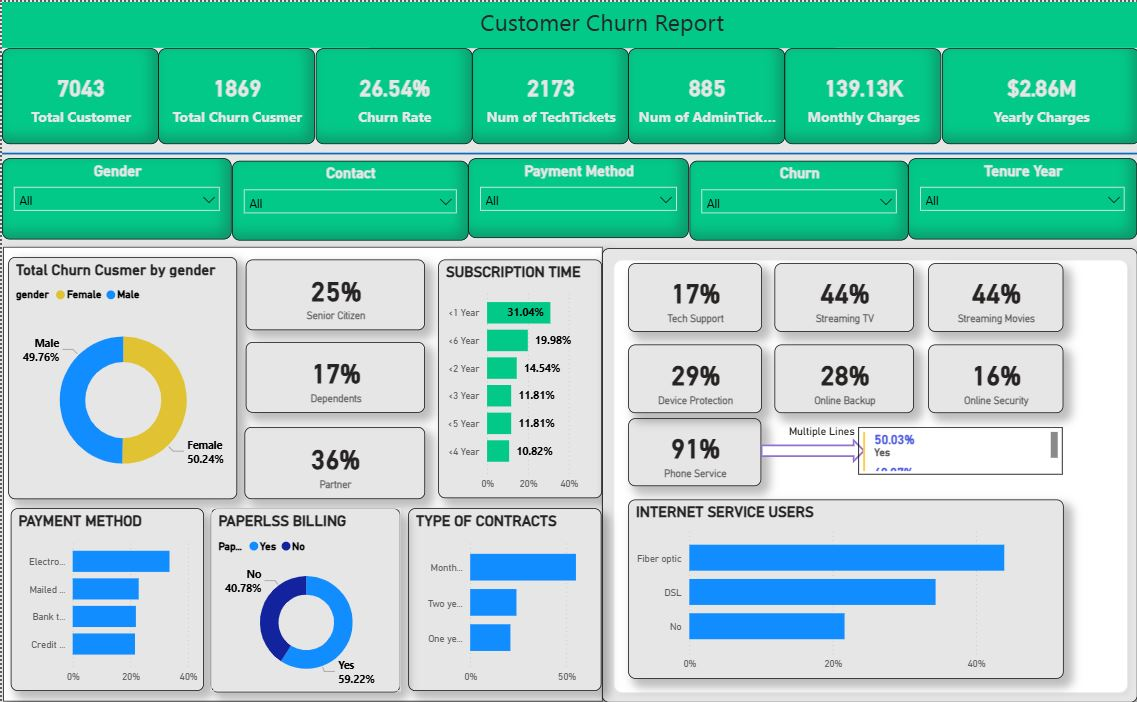

What the dashboard file says about the page in this screenshot:
{"tool":"powerbi","page":{"name":"Page 1","canvas":[1280,720],"ordinal":0},"visuals":[{"type":"card","fields":{"Values":["measure.Total Customer"]},"box":[0,36.6,178.3,106.7],"z":0},{"type":"card","fields":{"Values":["measure.Churned Customers"]},"box":[178.1,36.5,199.1,103.8],"z":1000},{"type":"card","fields":{"Values":["measure.Churn%"]},"box":[377.2,36.5,227.2,103.8],"z":2000},{"type":"textbox","title":"Customer Churn Analytics Dashboad","box":[0,0,1280.3,36.5],"z":3000},{"type":"card","fields":{"Values":["measure.Total Admin Tickets"]},"box":[639.4,36.5,220.2,103.8],"z":4000},{"type":"card","fields":{"Values":["measure.Total Charge"]},"box":[861,36.5,224.4,103.8],"z":5000},{"type":"card","fields":{"Values":["measure.Monthly Charge"]},"box":[1085.4,36.5,194.9,103.8],"z":6000},{"type":"shape","box":[614.2,39.3,18.2,99.6],"z":7000},{"type":"shape","box":[10.7,168.1,799.9,276.6],"z":8000},{"type":"shape","box":[0,154.3,1278.9,14],"z":9000},{"type":"donutChart","fields":{"Category":["01 Churn-Dataset.gender"],"Y":["measure.Churned Customers"]},"box":[23.8,176.7,290.3,256.6],"z":10000},{"type":"card","title":"Churn  Senior Citizen %","fields":{"Values":["measure.Churn Citizen%"]},"box":[313.1,177,237,76.1],"z":11000},{"type":"card","title":"Churn  Partner %","fields":{"Values":["measure.Churn patner%"]},"box":[313.1,253.1,237,86.3],"z":12000},{"type":"card","title":"Churn  Dependent %","fields":{"Values":["measure.Churn Dependent%"]},"box":[313.1,339.5,237,93.6],"z":13000},{"type":"clusteredBarChart","title":"Churn by Tenure ","fields":{"Y":["CountNonNull(Churn-Dataset.Churn)"],"Category":["Churn-Dataset.Tenure Group"]},"box":[550.7,178.8,244.4,253.9],"z":14000},{"type":"shape","box":[848.7,168.1,430.3,523.3],"z":15000},{"type":"card","title":"Phone Services","fields":{"Values":["measure.T_Phone Services"]},"box":[859.5,176.4,202.6,77.5],"z":16000},{"type":"card","title":"StreamingTV","fields":{"Values":["measure.strime tv"]},"box":[1085.4,176.7,183.7,75.7],"z":17000},{"type":"card","title":"StreamingMovies","fields":{"Values":["measure.T_StreamingMovies"]},"box":[859.5,255.1,202.6,76.3],"z":18000},{"type":"card","title":"OnlineBackup","fields":{"Values":["measure.T_OnlineBackup"]},"box":[858.3,331.4,203.8,77.5],"z":19000},{"type":"card","title":"OnlineSecurity","fields":{"Values":["measure.T_OnlineSecurity"]},"box":[1085.9,252.7,183.6,75.1],"z":20000},{"type":"card","title":"TechSupport","fields":{"Values":["measure.T_TechSupport"]},"box":[1085.9,327.8,183.6,76.3],"z":21000},{"type":"clusteredBarChart","fields":{"Category":["Churn-Dataset.InternetService"],"Y":["measure.Churned Customers"]},"box":[860.6,408.9,408.9,267],"z":22000},{"type":"shape","box":[826.1,172.8,13.1,503],"z":23000},{"type":"clusteredColumnChart","fields":{"Category":["Churn-Dataset.PaymentMethod"],"Y":["measure.Churned Customers"]},"box":[25,470.9,386.2,205],"z":24000},{"type":"clusteredBarChart","fields":{"Category":["Churn-Dataset.Contract"],"Y":["measure.Churned Customers"]},"box":[436.3,470.9,358.8,205],"z":25000},{"type":"shape","box":[23.8,444.6,771.2,26.2],"z":26000}]}

Visuals, with their boxes on the page's 1280x720 design canvas (x1, y1, x2, y2). These are canvas units, not pixel positions in the 1137x702 screenshot, which may show the page scaled, cropped or inside an application window:
card - measure.Total Customer: (x1=0, y1=37, x2=178, y2=143)
card - measure.Churned Customers: (x1=178, y1=36, x2=377, y2=140)
card - measure.Churn%: (x1=377, y1=36, x2=604, y2=140)
"Customer Churn Analytics Dashboad" textbox: (x1=0, y1=0, x2=1280, y2=36)
card - measure.Total Admin Tickets: (x1=639, y1=36, x2=860, y2=140)
card - measure.Total Charge: (x1=861, y1=36, x2=1085, y2=140)
card - measure.Monthly Charge: (x1=1085, y1=36, x2=1280, y2=140)
shape: (x1=614, y1=39, x2=632, y2=139)
shape: (x1=11, y1=168, x2=811, y2=445)
shape: (x1=0, y1=154, x2=1279, y2=168)
donutChart - 01 Churn-Dataset.gender x measure.Churned Customers: (x1=24, y1=177, x2=314, y2=433)
"Churn  Senior Citizen %" card: (x1=313, y1=177, x2=550, y2=253)
"Churn  Partner %" card: (x1=313, y1=253, x2=550, y2=339)
"Churn  Dependent %" card: (x1=313, y1=340, x2=550, y2=433)
"Churn by Tenure " clusteredBarChart: (x1=551, y1=179, x2=795, y2=433)
shape: (x1=849, y1=168, x2=1279, y2=691)
"Phone Services" card: (x1=860, y1=176, x2=1062, y2=254)
"StreamingTV" card: (x1=1085, y1=177, x2=1269, y2=252)
"StreamingMovies" card: (x1=860, y1=255, x2=1062, y2=331)
"OnlineBackup" card: (x1=858, y1=331, x2=1062, y2=409)
"OnlineSecurity" card: (x1=1086, y1=253, x2=1270, y2=328)
"TechSupport" card: (x1=1086, y1=328, x2=1270, y2=404)
clusteredBarChart - Churn-Dataset.InternetService x measure.Churned Customers: (x1=861, y1=409, x2=1270, y2=676)
shape: (x1=826, y1=173, x2=839, y2=676)
clusteredColumnChart - Churn-Dataset.PaymentMethod x measure.Churned Customers: (x1=25, y1=471, x2=411, y2=676)
clusteredBarChart - Churn-Dataset.Contract x measure.Churned Customers: (x1=436, y1=471, x2=795, y2=676)
shape: (x1=24, y1=445, x2=795, y2=471)
